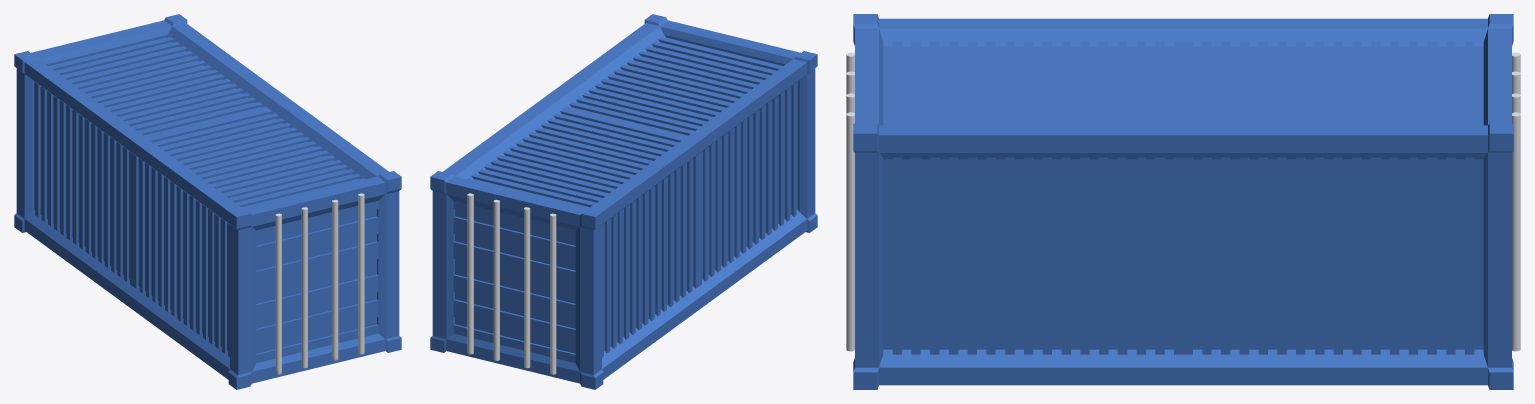
File: container.obj
The picture shows the model from 3 angles, left to right: view 1: azimuth 30°, elevation 25°; view 2: azimuth 150°, elevation 25°; view 3: azimuth 270°, elevation 25°; orthographic projection. The views are drawn at different scales.
Parts seen in each view (by area): view 1: 立方体; view 2: 立方体; view 3: 立方体.
Boxes of the visible parts, x1,y1,x2,y2 form: 立方体: [14, 14, 401, 389]; 立方体: [430, 14, 817, 389]; 立方体: [846, 14, 1520, 389].
Size of the model in its own units: 6 by 6 by 14.3.
